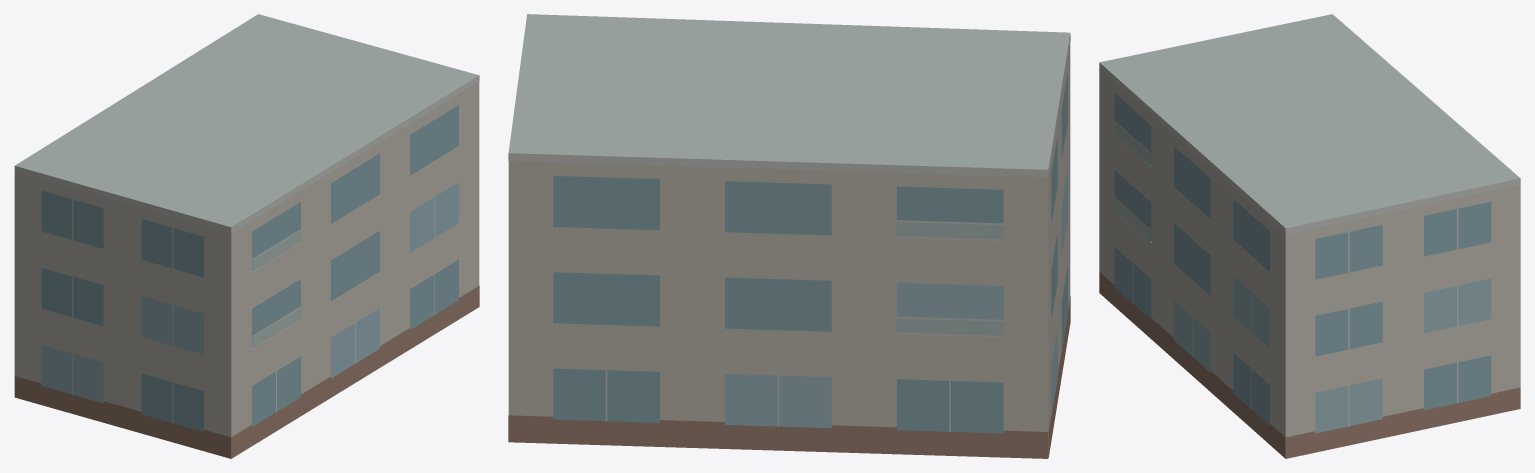
The model's file is survey-upis-32913997.glb.
3 renders of one model, left to right at view 1: azimuth 30°, elevation 25°; view 2: azimuth 150°, elevation 25°; view 3: azimuth 270°, elevation 25°, orthographic. The views are drawn at different scales.
Visible parts, largest first — view 1: survey-upis-32913997.tmp; view 2: survey-upis-32913997.tmp; view 3: survey-upis-32913997.tmp.
Part boxes in pixels (bbox=[...]): survey-upis-32913997.tmp: bbox=[14, 14, 479, 458]; survey-upis-32913997.tmp: bbox=[508, 14, 1070, 458]; survey-upis-32913997.tmp: bbox=[1099, 14, 1520, 458].
Bounding box in the file's own units: 18.25 × 9.15 × 15.16.
